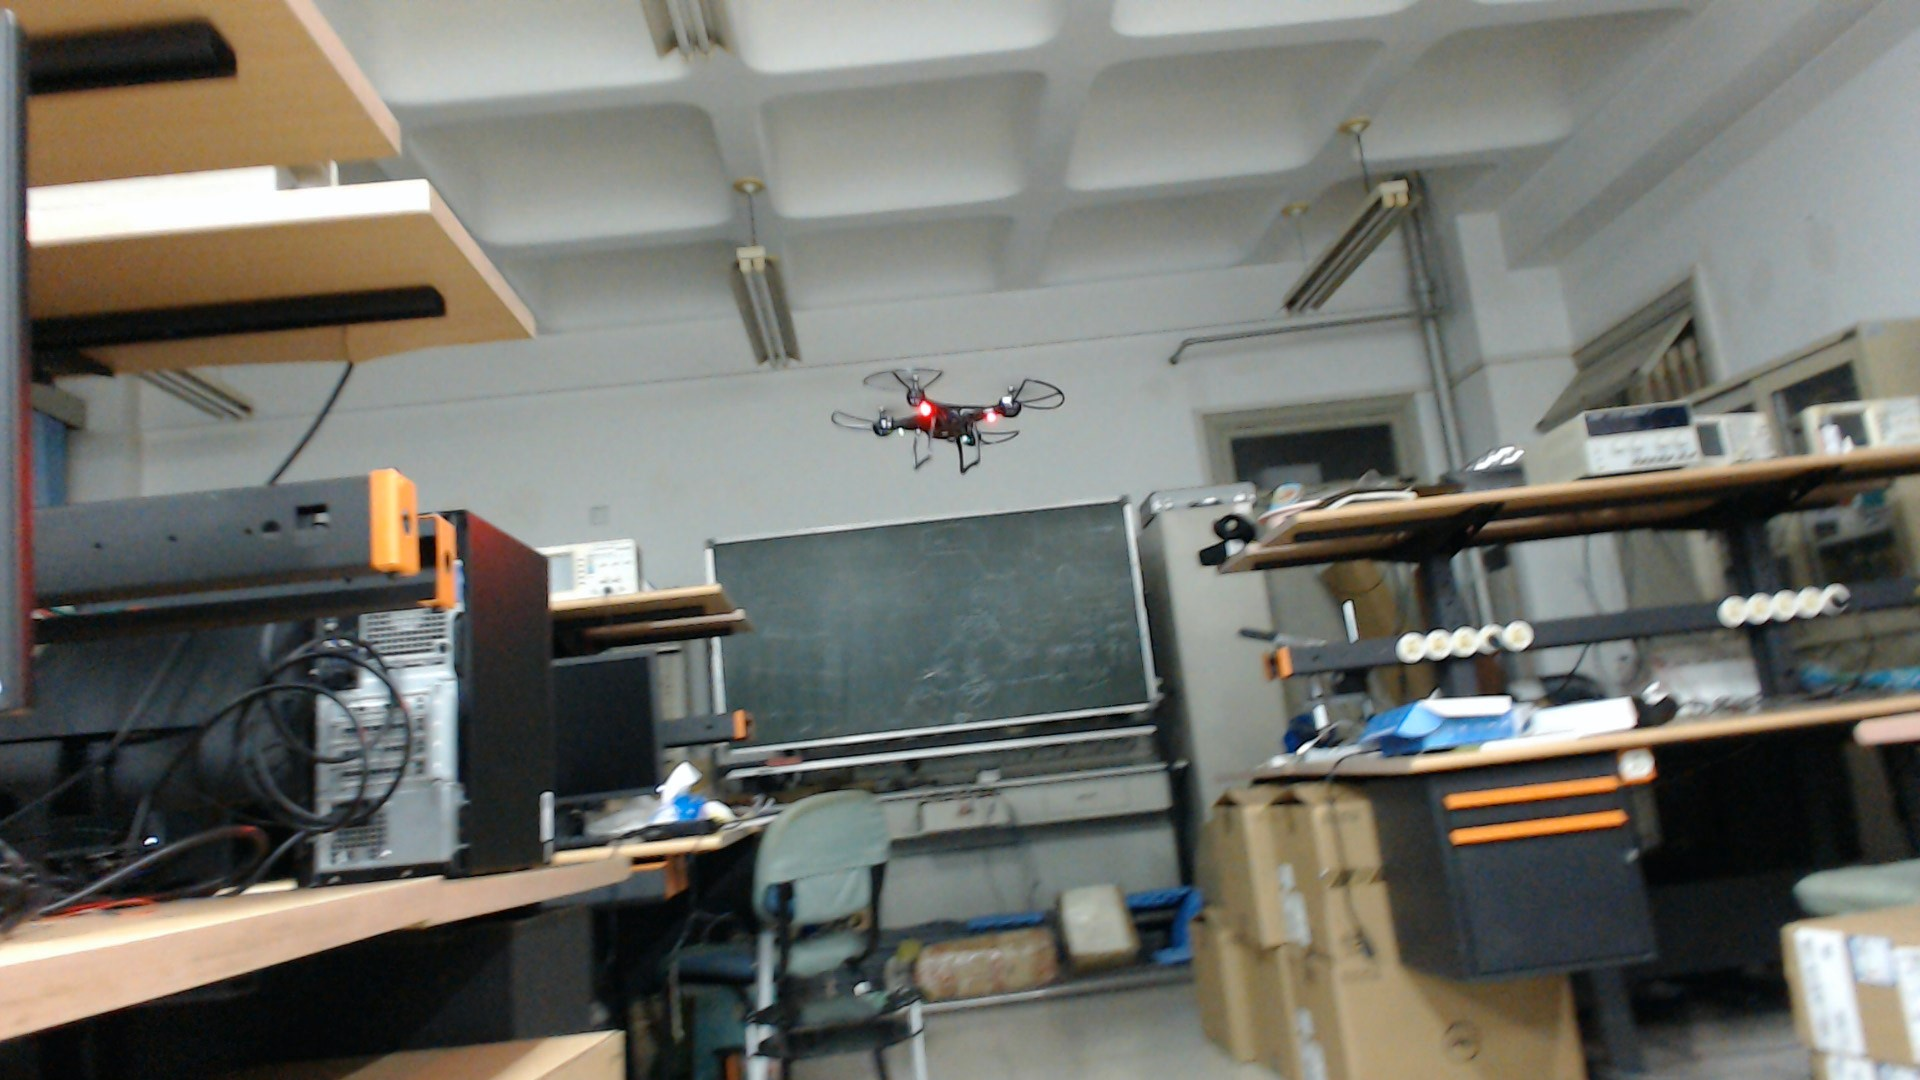drone: (824, 361, 1073, 481)
